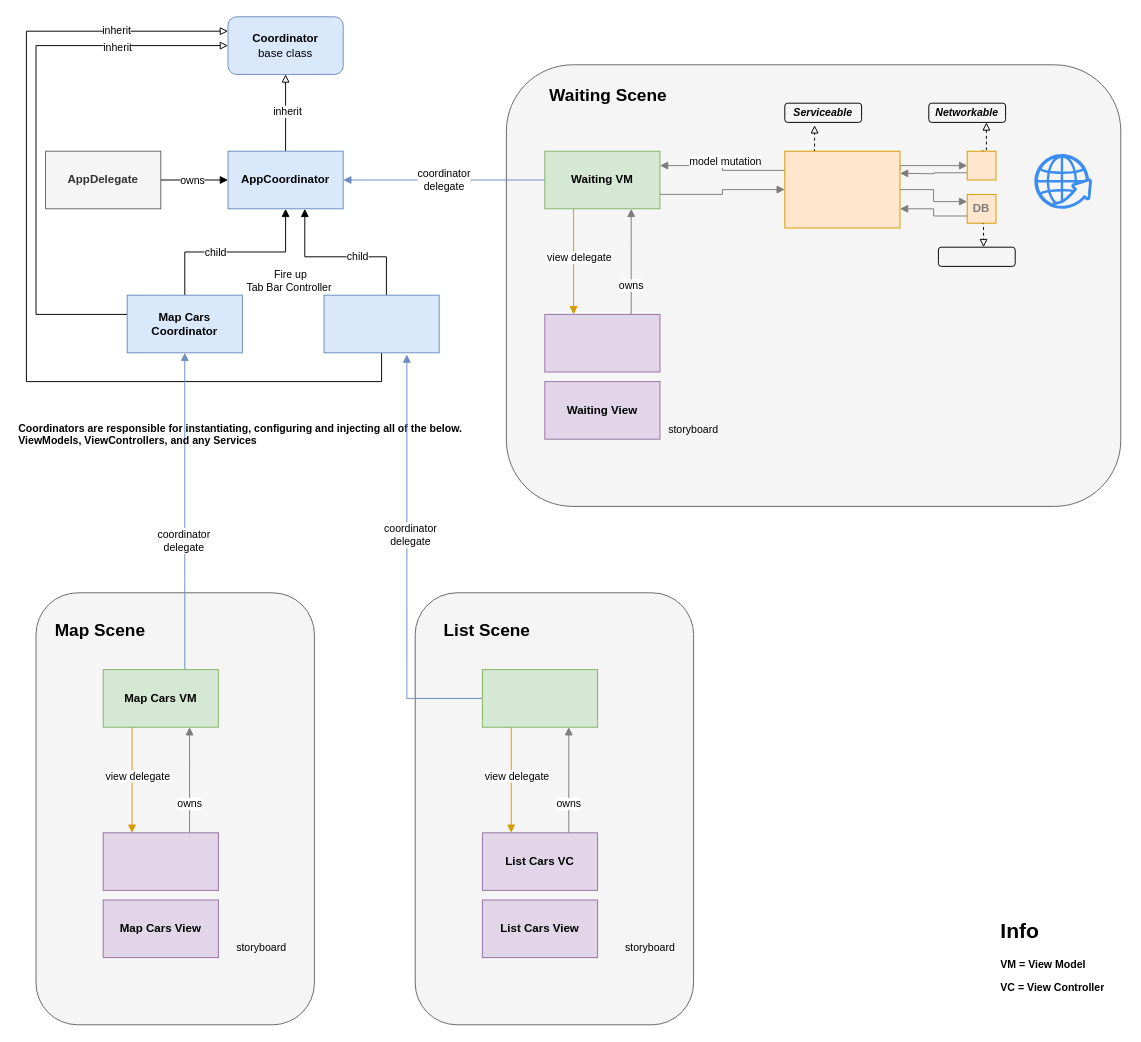
The diagram is 1141 pixels wide and 1042 high, and some of its shapes have lost their labels. Here are the shapes that lost their labels. From the top down, the centre of each, then its label:
[981,165]: API
[842,189]: AppServices
[976,256]: Storage
[381,323]: List Cars Coordinator
[602,342]: Waiting VC
[539,698]: List Cars VM
[160,861]: Map Cars VC
